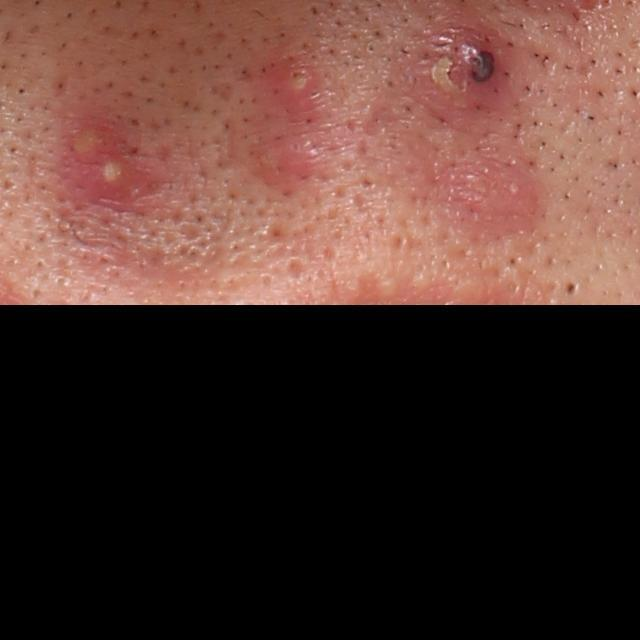papule: (442, 135, 547, 244), (415, 16, 522, 120)
pustule: (256, 132, 313, 188), (55, 114, 113, 167), (275, 55, 322, 116), (87, 156, 134, 199)
